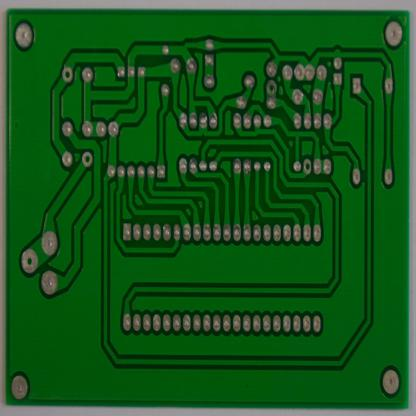missing_hole: (19, 250, 39, 274), (60, 65, 74, 84), (80, 149, 94, 168), (265, 78, 278, 98), (302, 157, 313, 176)
